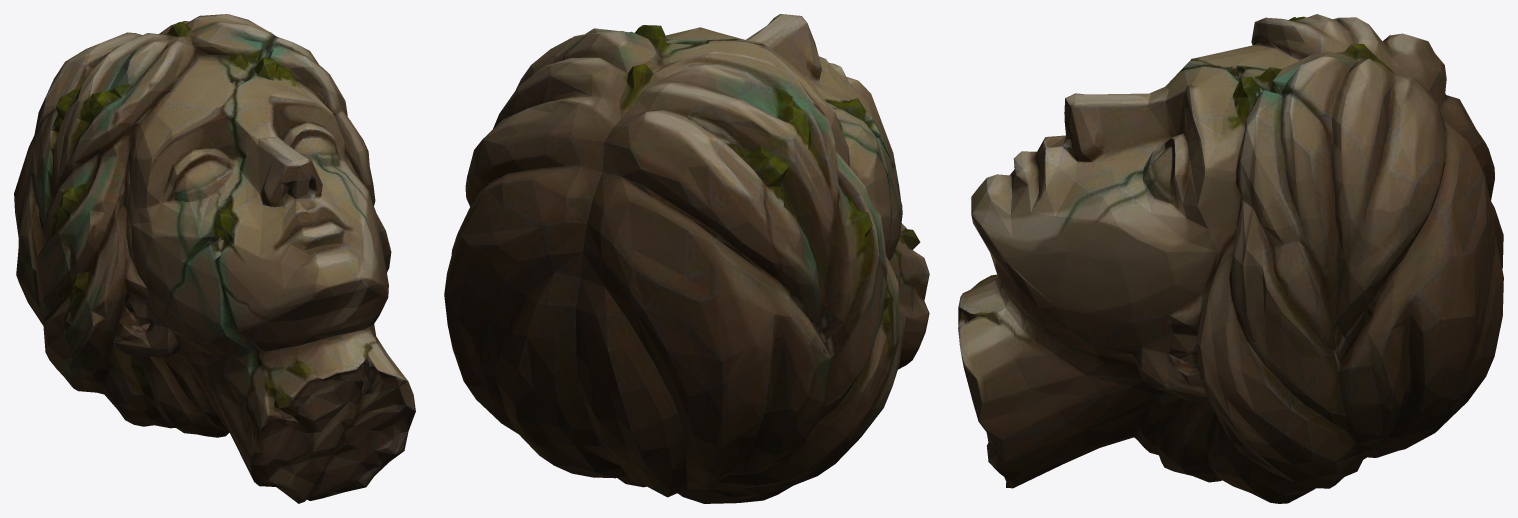
Rendered from angel_head.glb.
3 views of the same model, side by side, from view 1: azimuth 30°, elevation 25°; view 2: azimuth 150°, elevation 25°; view 3: azimuth 270°, elevation 25° (orthographic). The views are drawn at different scales.
Parts seen in each view (by area): view 1: tripo_node_7918ddb7-f3eb-41b8-a139-989a6ad74b7e.001; view 2: tripo_node_7918ddb7-f3eb-41b8-a139-989a6ad74b7e.001; view 3: tripo_node_7918ddb7-f3eb-41b8-a139-989a6ad74b7e.001.
Boxes of the visible parts, x1,y1,x2,y2 form: tripo_node_7918ddb7-f3eb-41b8-a139-989a6ad74b7e.001: (14, 14, 415, 503); tripo_node_7918ddb7-f3eb-41b8-a139-989a6ad74b7e.001: (444, 14, 929, 503); tripo_node_7918ddb7-f3eb-41b8-a139-989a6ad74b7e.001: (958, 14, 1503, 503).
Size of the model in its own units: 0.7775 by 0.8607 by 0.9782.
Materials: 1 (1 with a texture image).
